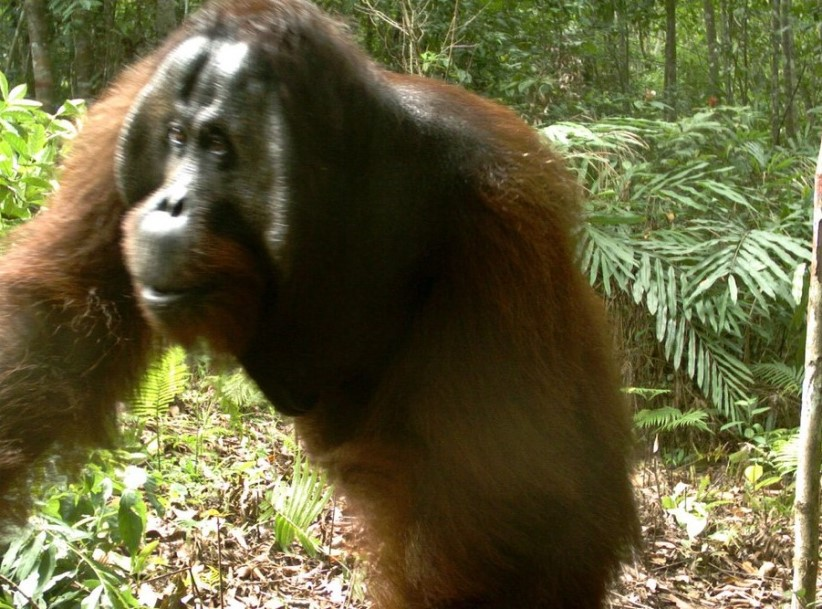Orangutan: (110, 36, 651, 573)
